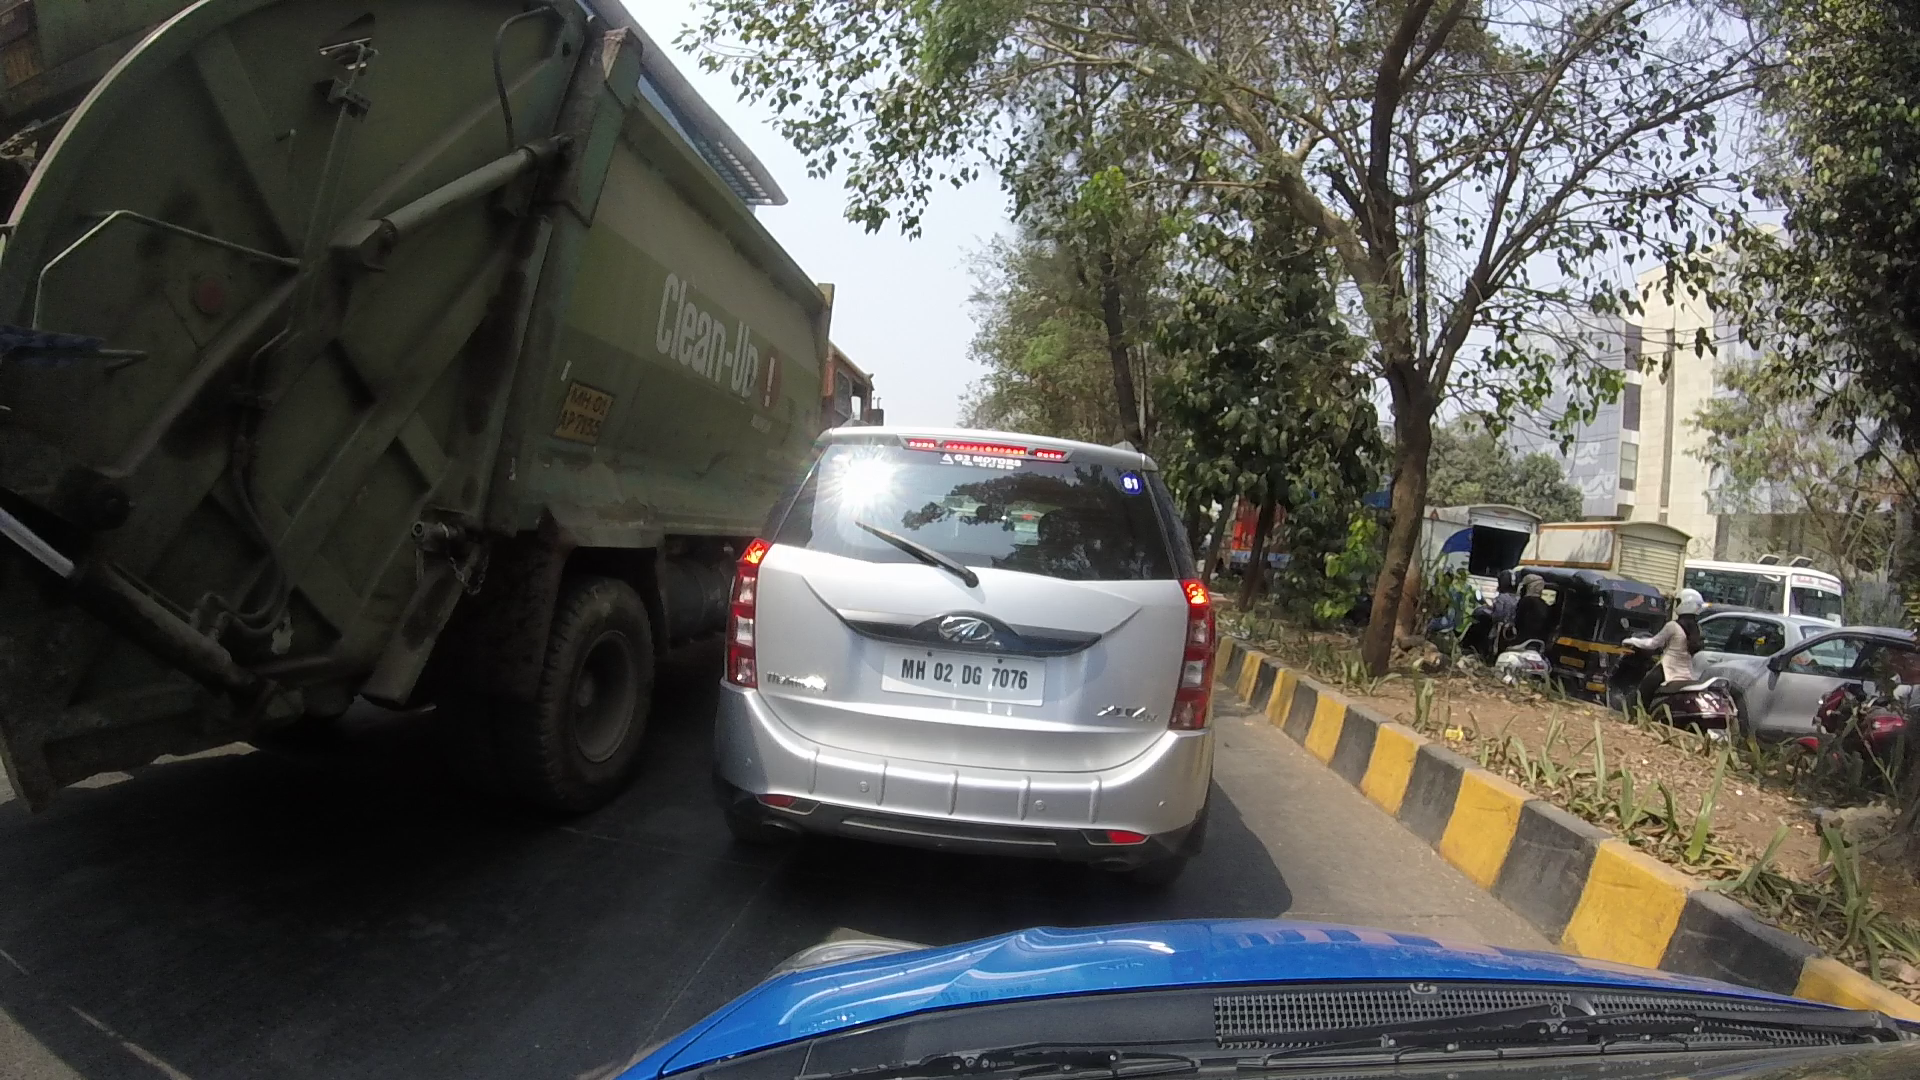car: (728, 415, 1228, 836)
truck: (34, 1, 840, 814), (1469, 572, 1655, 698)
